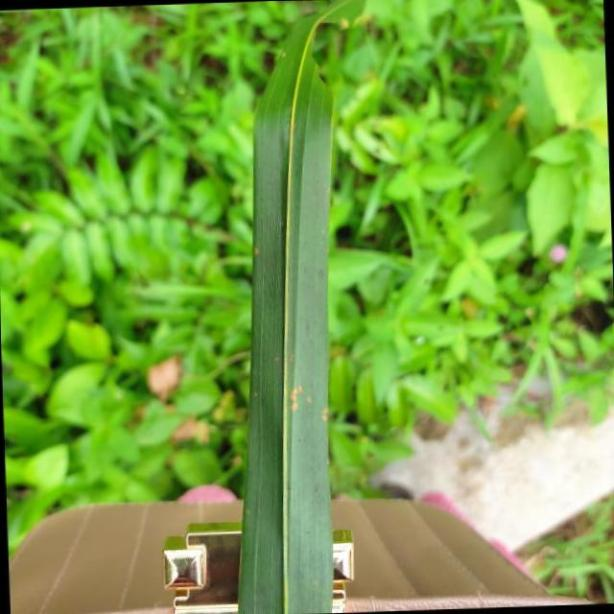Boron: (235, 0, 347, 614)
